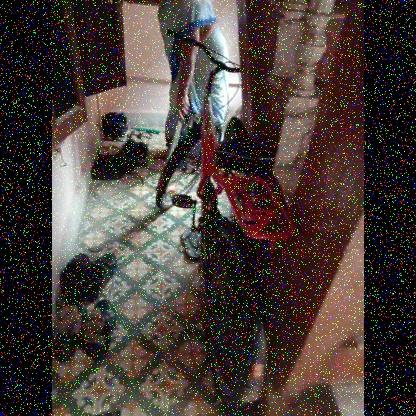Bicycle: (137, 15, 292, 401)
